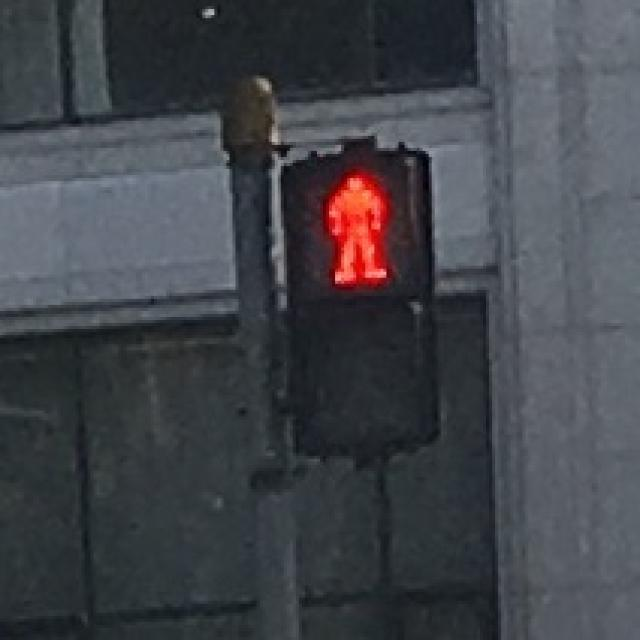red-crossing: (290, 160, 420, 287)
